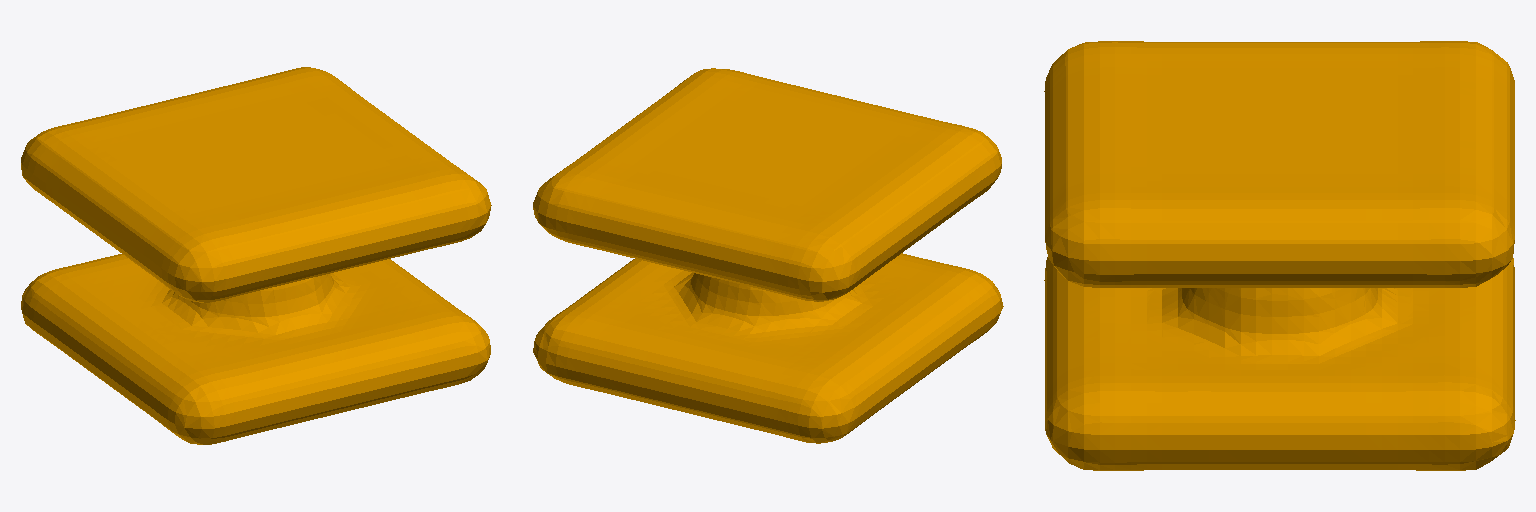
robot.urdf — R05_1:
<?xml version="1.0"?>
<robot name="R05_1">
  <link name="base_link">
    <visual>
      <geometry>
        <mesh filename="../../../../meshes/egad/train/R05_1.obj" />
      </geometry>
    </visual>
  </link>
</robot>

--- Facts derived from the render (not from the file) ---
The picture shows the robot from 3 angles, left to right: view 1: azimuth 30°, elevation 25°; view 2: azimuth 150°, elevation 25°; view 3: azimuth 270°, elevation 25°; orthographic projection.
Model R05_1 with 1 links and 0 joints (none), rooted at base_link, posed every joint at zero.
Links seen in each view (by area): view 1: base_link; view 2: base_link; view 3: base_link.
Boxes of the visible links, left/top/right/bottom form: base_link: left=21, top=67, right=491, bottom=444; base_link: left=533, top=68, right=1003, bottom=443; base_link: left=1044, top=41, right=1515, bottom=470.
Bounding box of the posed robot: 0.075 × 0.075 × 0.0467 m (x, y, z).
Meshes: 1 distinct files referenced, 1 mesh visuals loaded (1 OBJ).